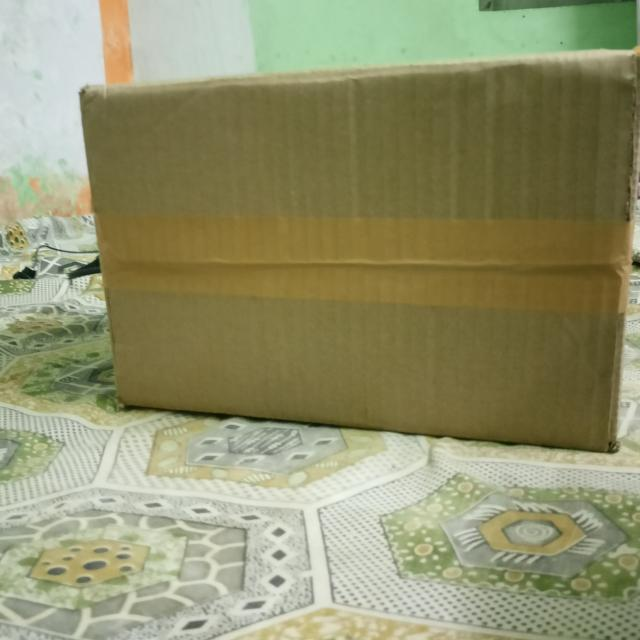box: (84, 55, 637, 451)
